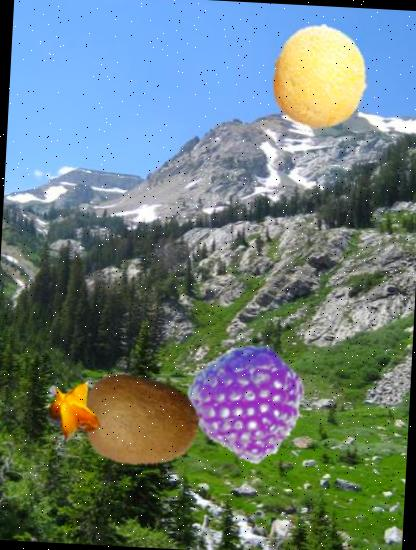Cantaloupe: (267, 21, 377, 131)
Carambula: (40, 379, 104, 444)
Kiwi: (80, 358, 202, 482)
Raspberry: (188, 339, 310, 462)
